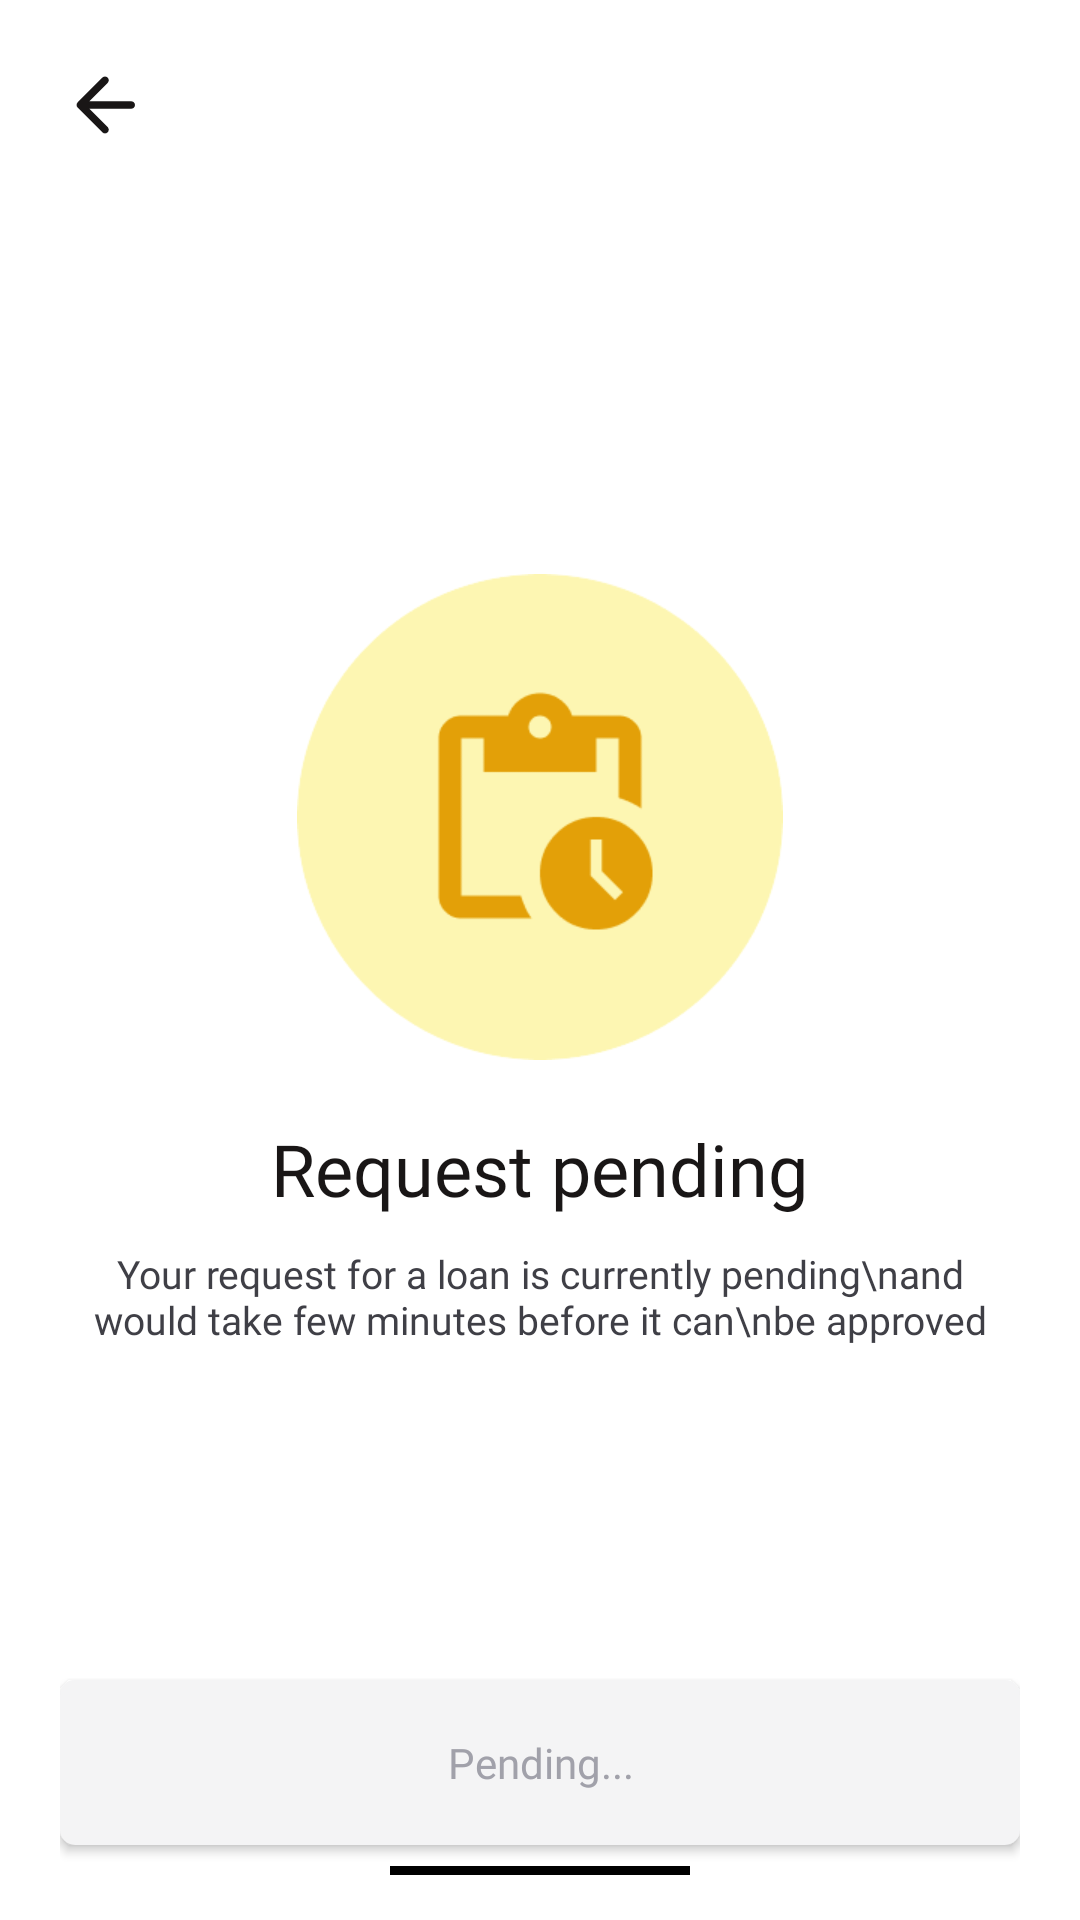

Where icons sit on this 1080x1920 app screen, as detection(x1, y1, x2, y2):
arrow left: detection(76, 76, 135, 134)
